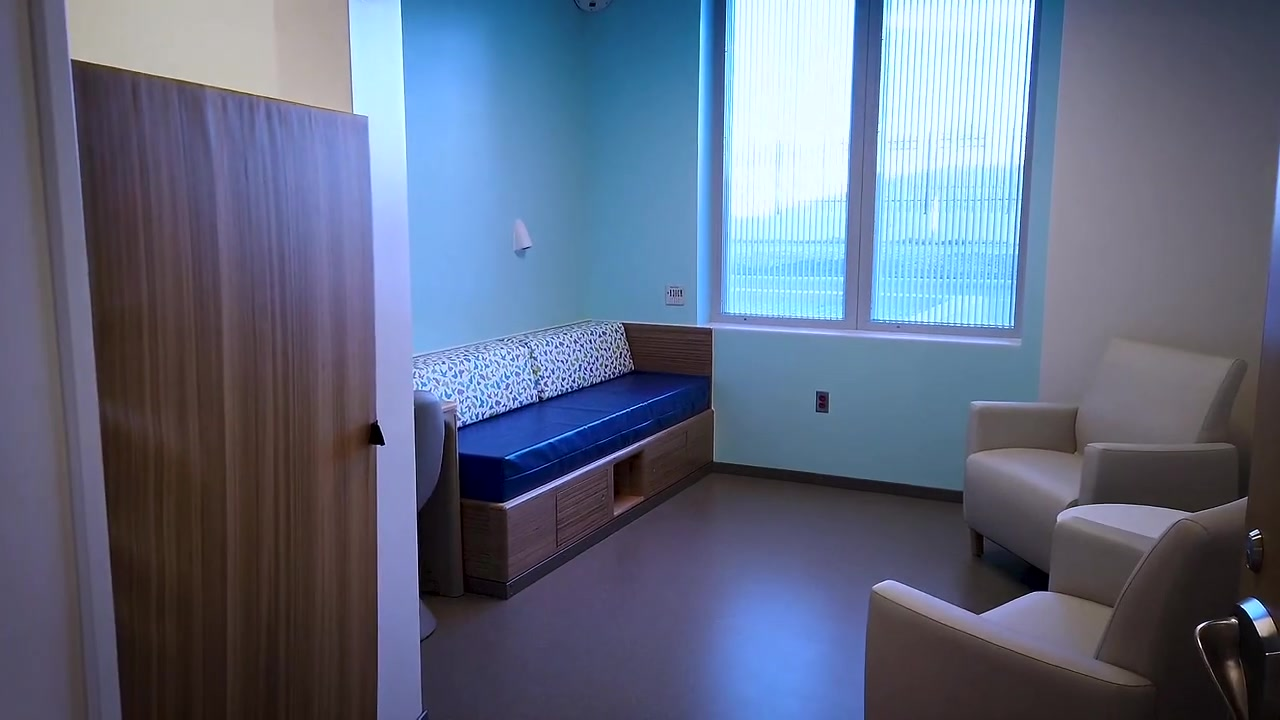chair: (414, 388, 446, 644)
door_handle: (1193, 596, 1280, 720)
sofa: (863, 496, 1248, 720), (413, 320, 714, 600), (963, 334, 1247, 576)
